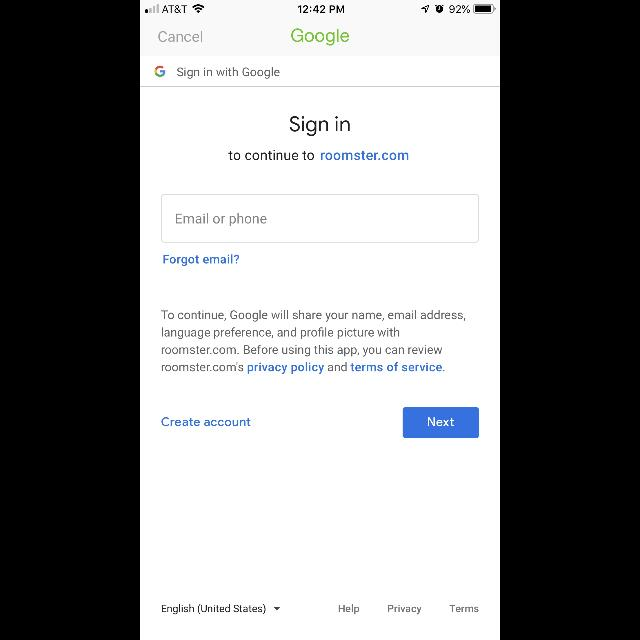icon: (154, 66, 166, 78), (274, 607, 280, 611)
input: (161, 194, 479, 242)
text: (161, 310, 465, 374), (229, 150, 409, 160), (178, 67, 280, 79), (290, 116, 350, 136), (176, 214, 268, 226), (291, 28, 349, 46), (162, 604, 266, 614), (164, 254, 240, 266), (162, 418, 250, 427), (159, 32, 203, 42), (388, 605, 422, 615), (449, 604, 478, 612), (339, 605, 359, 615)
textbutton: (403, 408, 479, 438)
uppertaskbar: (140, 0, 500, 14)
